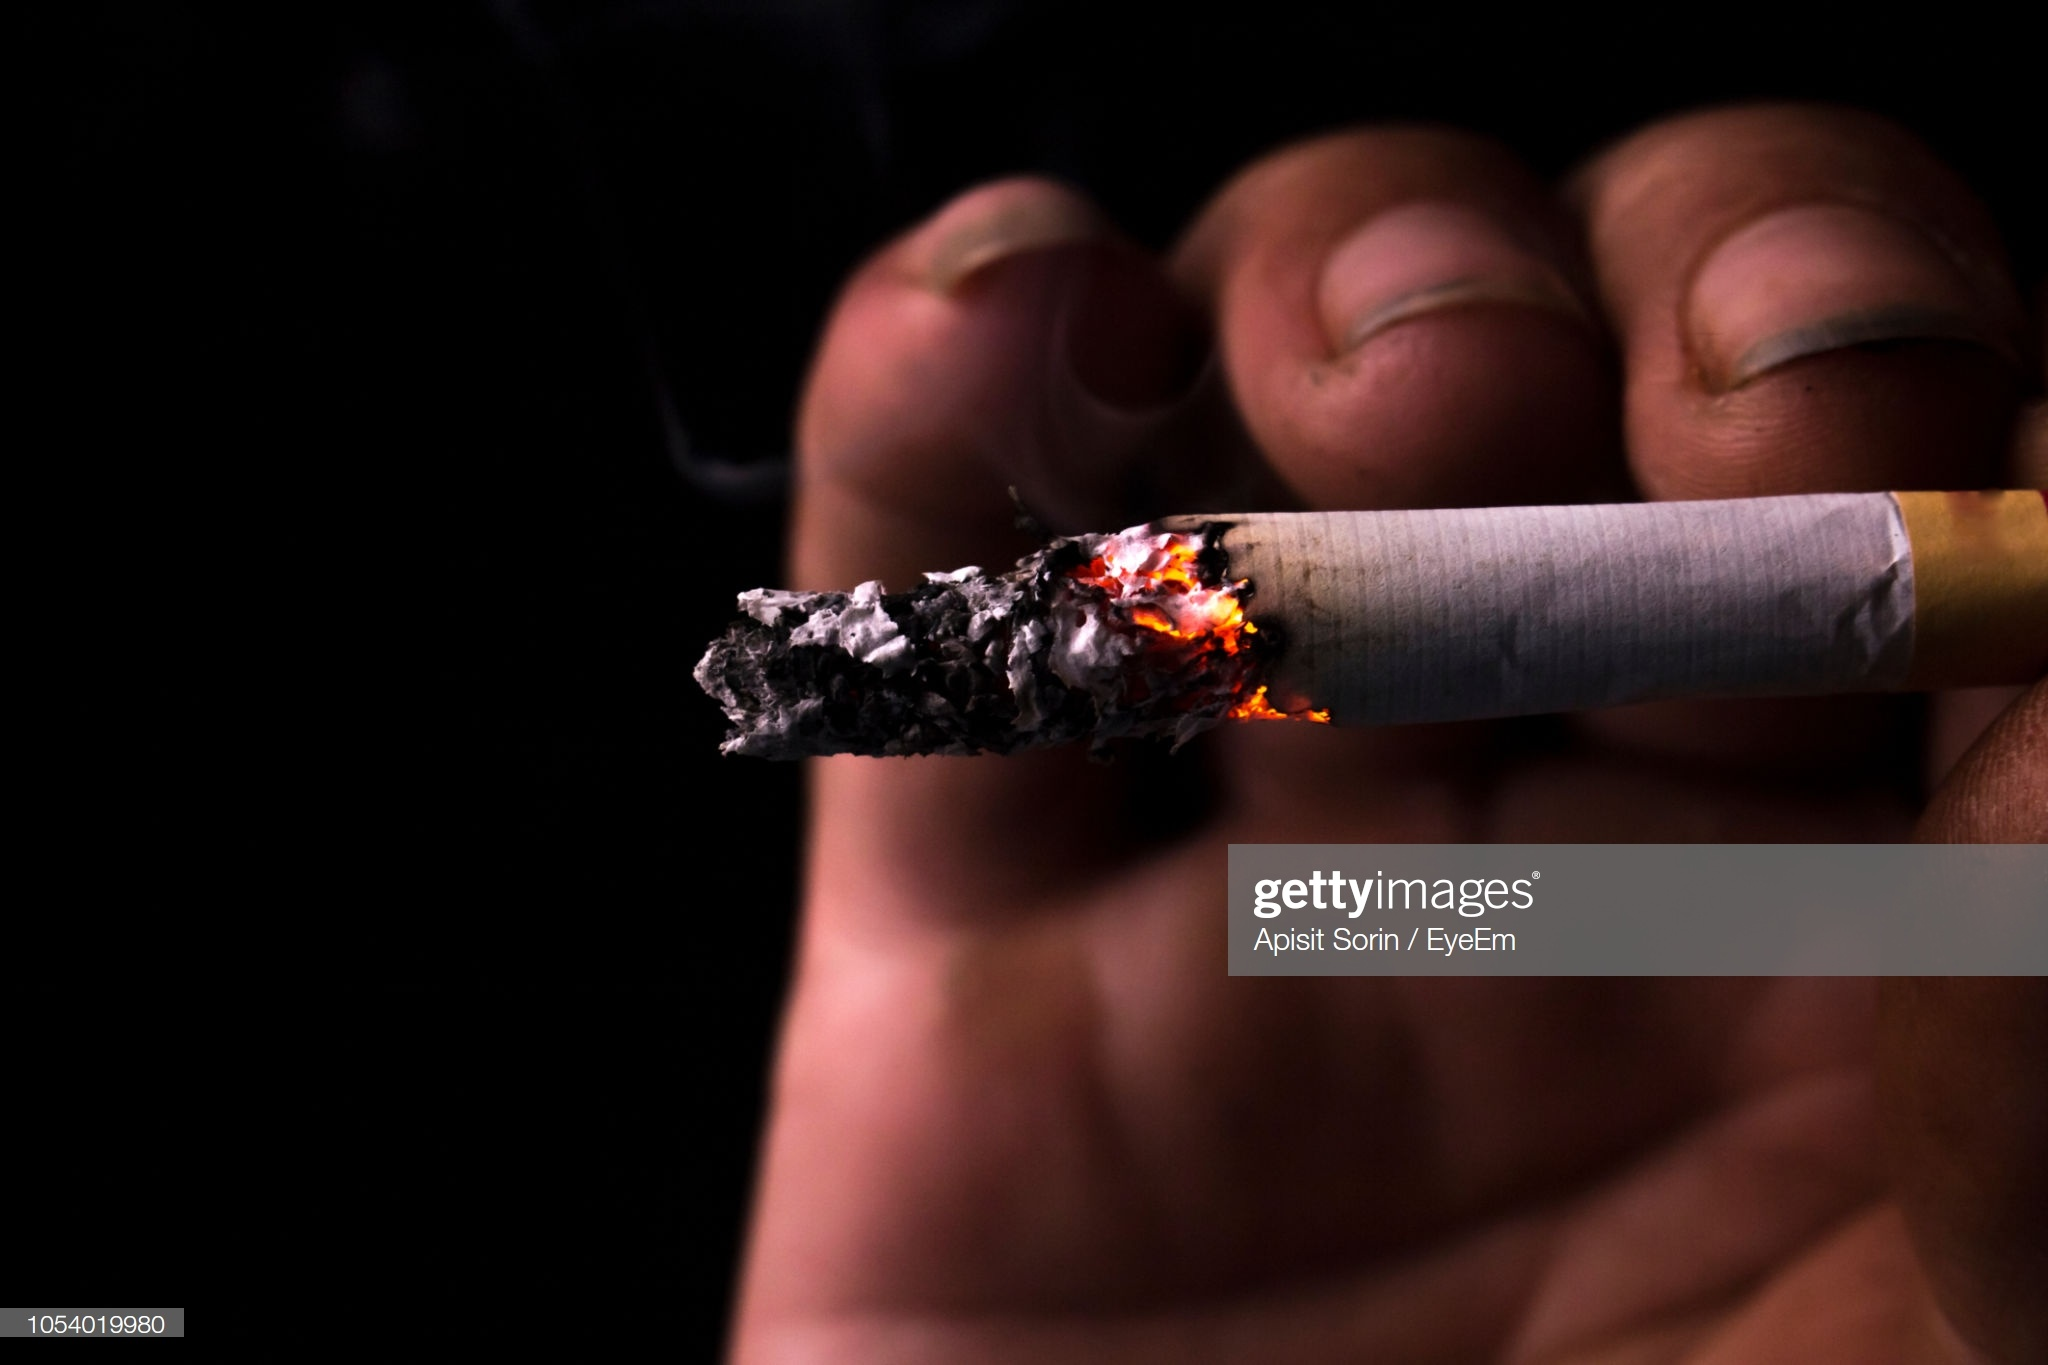sigaretta: (707, 498, 2018, 731)
